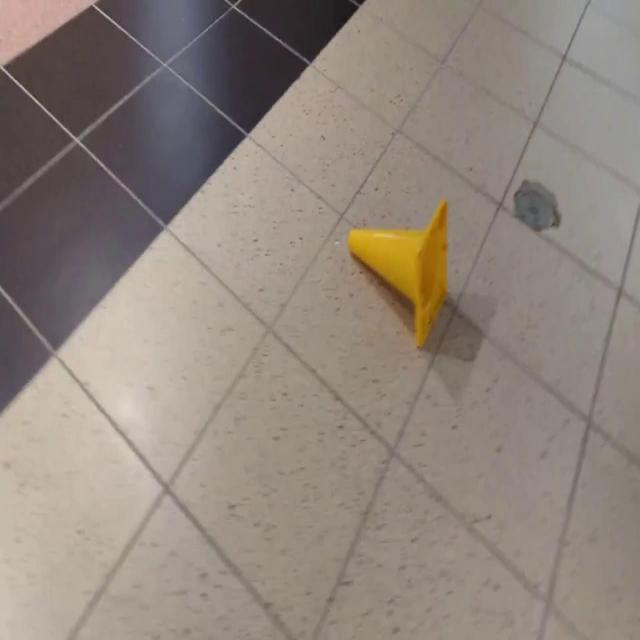frc_cone: (348, 199, 450, 351)
